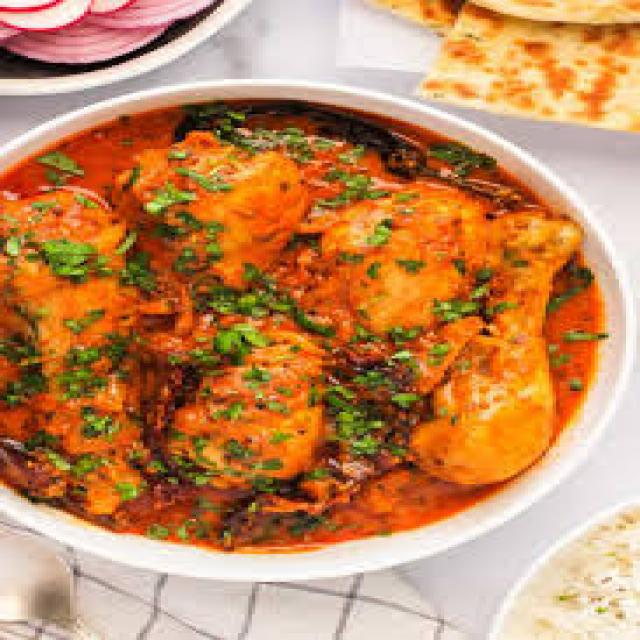Chicken Curry: (0, 93, 602, 556)
